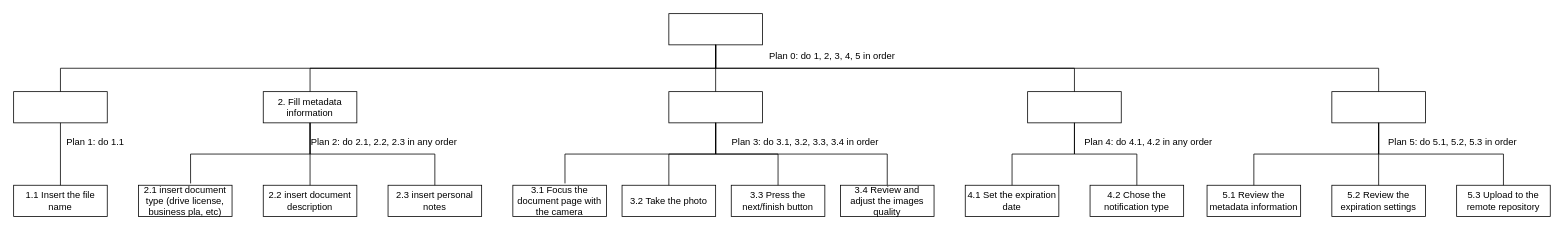
This 1564x231 diagram has some shape labels left out. Here are the shapes that lost their labels. From the top down, the box of each, then its label:
(668, 13, 762, 45): 0. add new document with camera
(13, 91, 107, 123): 1. Fill the file information
(668, 91, 762, 123): 3. Select single or multiple photos
(1027, 91, 1121, 123): 4. Fill expiration settings
(1331, 91, 1425, 123): 5. Save the document
